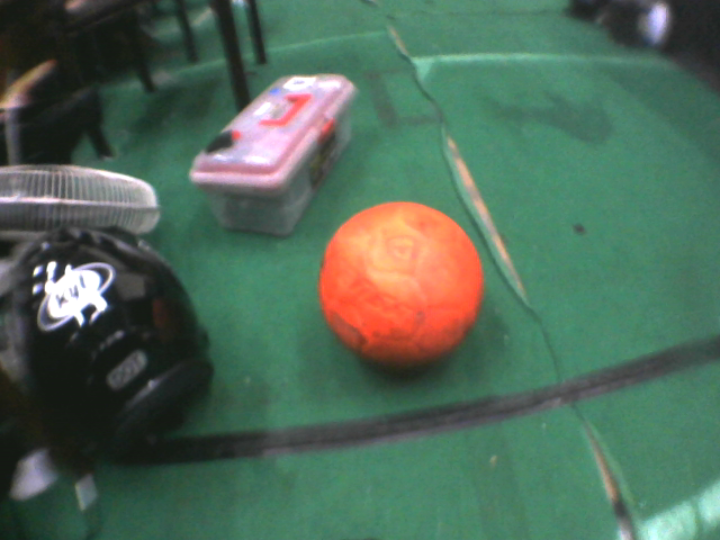bola: (310, 187, 490, 381)
